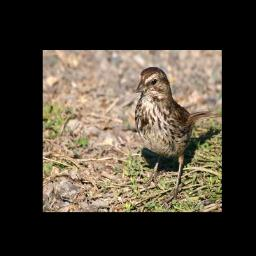Sparrow: (134, 67, 220, 203)
